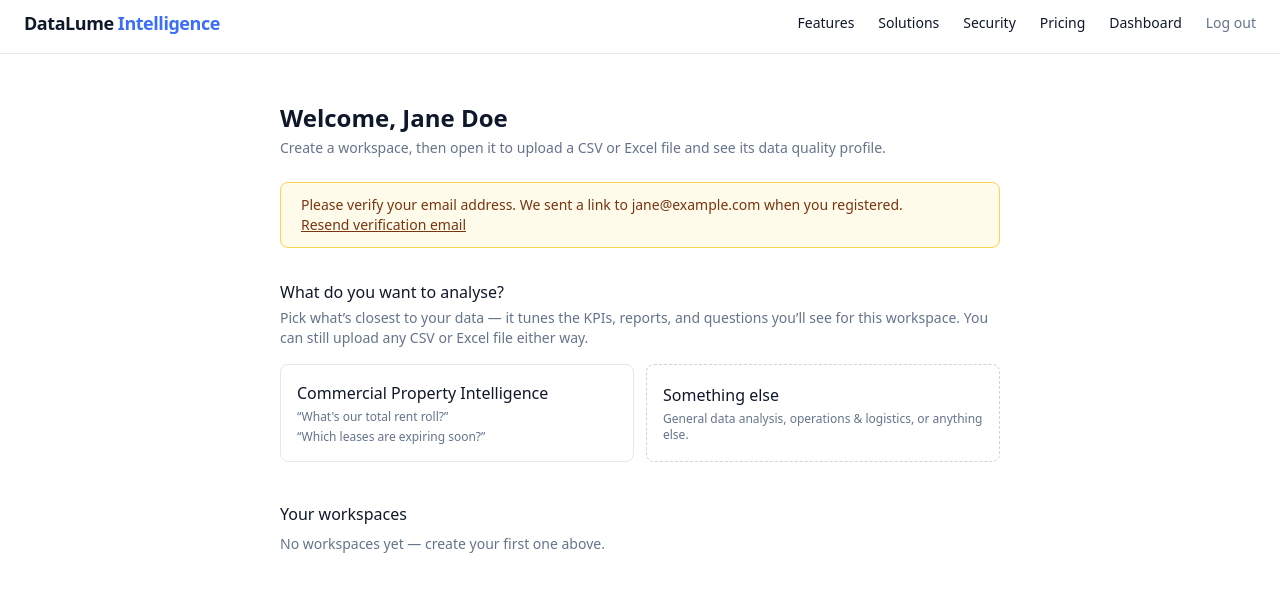
Test: DashboardPage email verification banner › shows an error if resending fails
This screenshot has width=1280, height=594.
Step 1. Click the button "Resend verification email" → click(384, 225), box [301, 215, 466, 235]
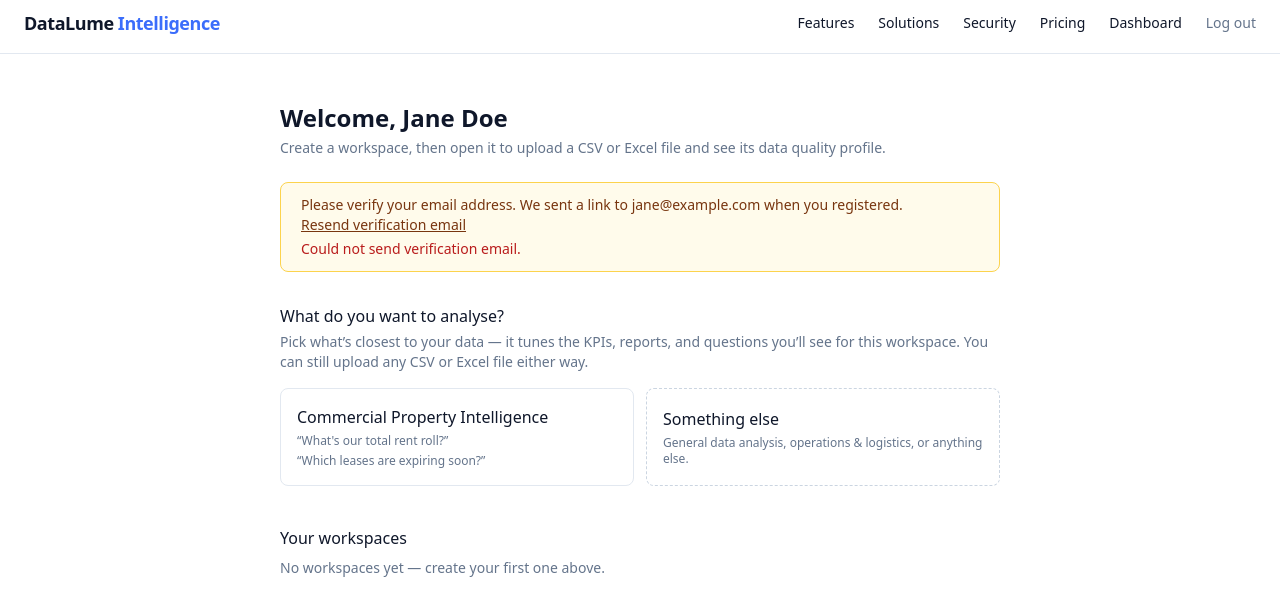
Check: the text "Could not send verification email." is shown, box [301, 239, 521, 258]
